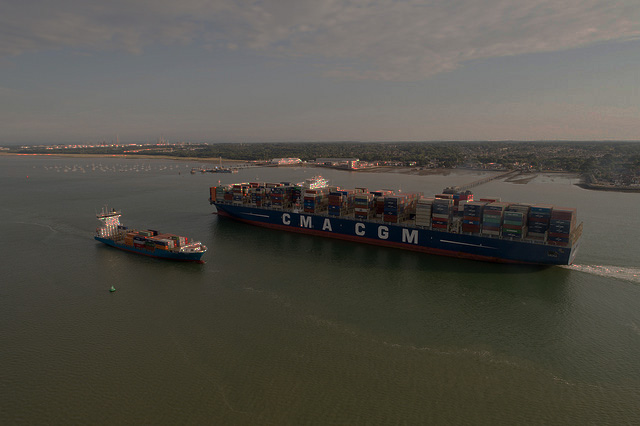container_ship: (204, 172, 585, 285), (88, 206, 210, 264)
